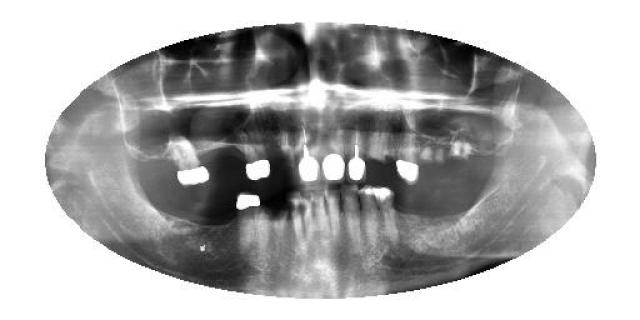Cavity: (448, 136, 472, 168), (422, 142, 448, 170)
Fillings: (168, 135, 210, 187), (236, 124, 272, 180), (322, 125, 347, 184), (394, 133, 421, 185), (235, 194, 261, 246)
Implant: (295, 123, 320, 185), (345, 124, 367, 184)
